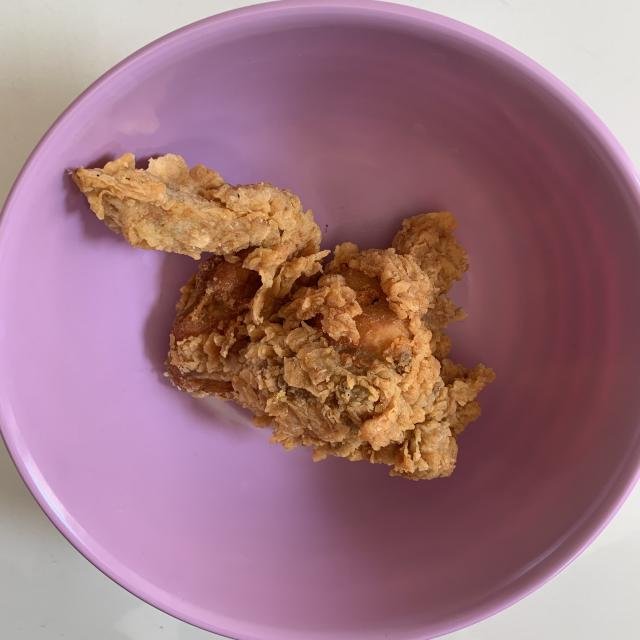Frango: (73, 151, 487, 477)
